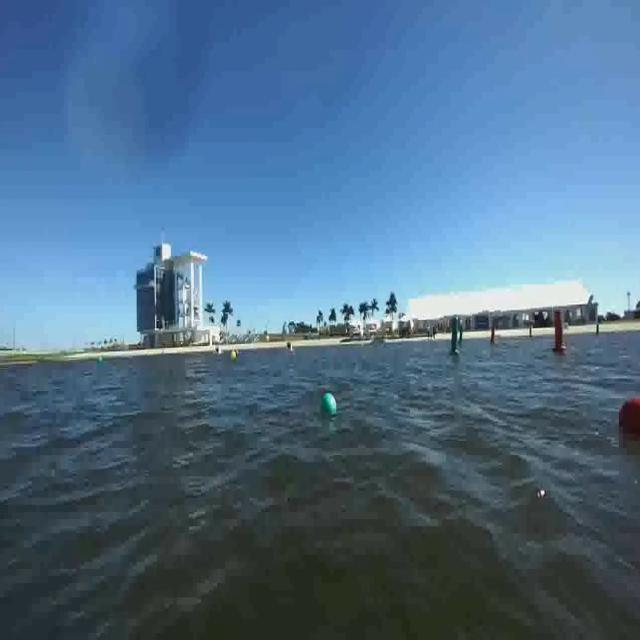green-buoy: (322, 395, 338, 418)
green-column-buoy: (447, 316, 460, 358)
red-buoy: (619, 397, 640, 440)
red-column-buoy: (553, 311, 568, 355), (490, 327, 498, 346)
yellow-buoy: (232, 350, 240, 362)
